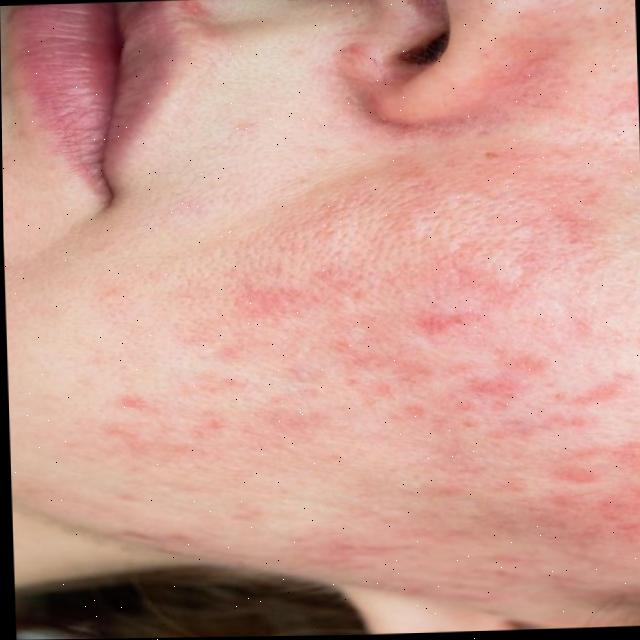Rosacea: (88, 136, 640, 594)
